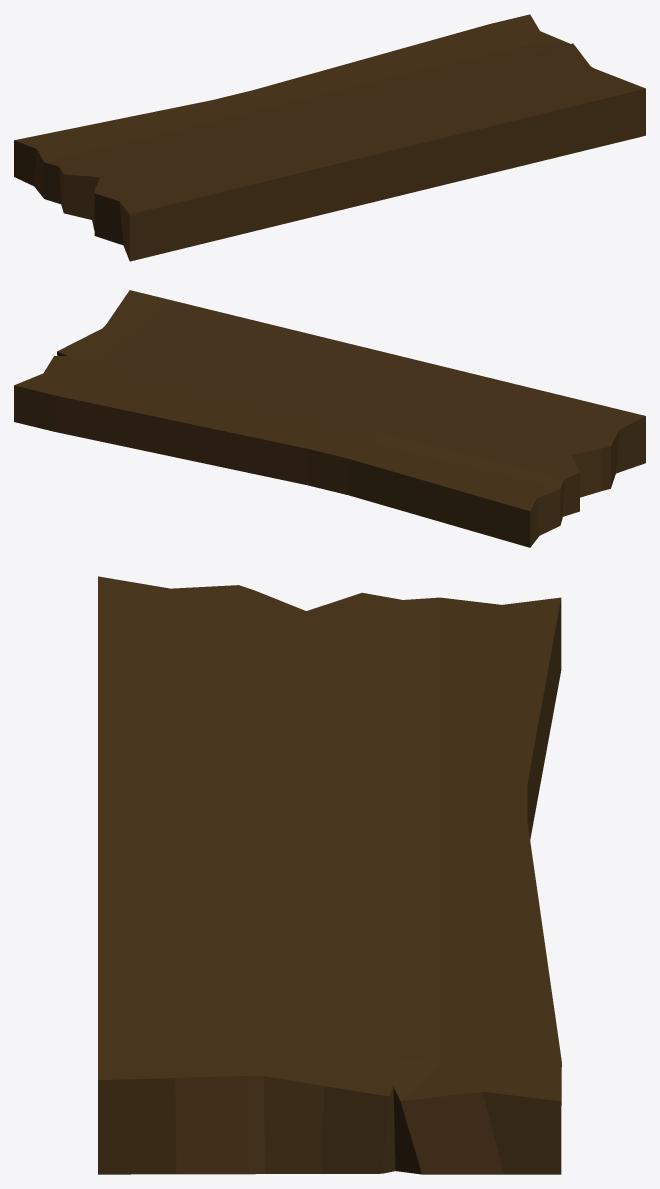
File: Plank.fbx
The picture shows the model from 3 angles, top to bottom: view 1: azimuth 30°, elevation 25°; view 2: azimuth 150°, elevation 25°; view 3: azimuth 270°, elevation 25°; orthographic projection. The views are drawn at different scales.
Visible parts, largest first — view 1: Cube; view 2: Cube; view 3: Cube.
Part boxes in pixels (x1,y1,x2,y2): Cube: (14,14,645,261); Cube: (14,290,645,547); Cube: (98,576,561,1174).
Size of the model in its own units: 515 by 44.96 by 200.
